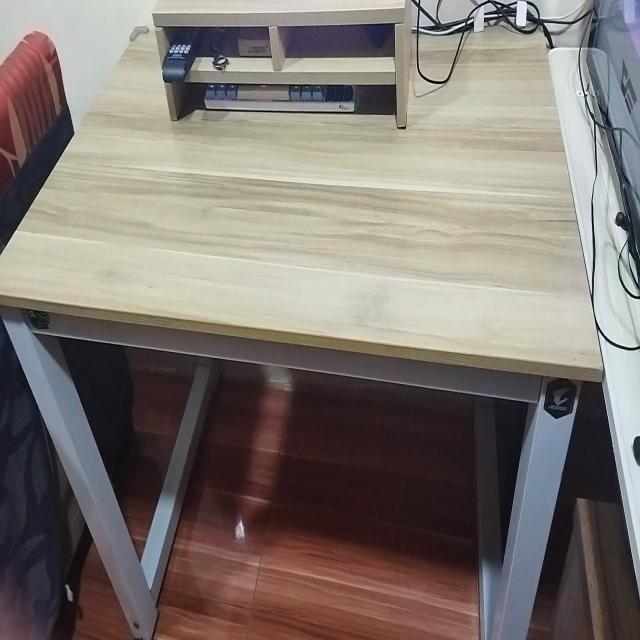table: (16, 12, 607, 640)
